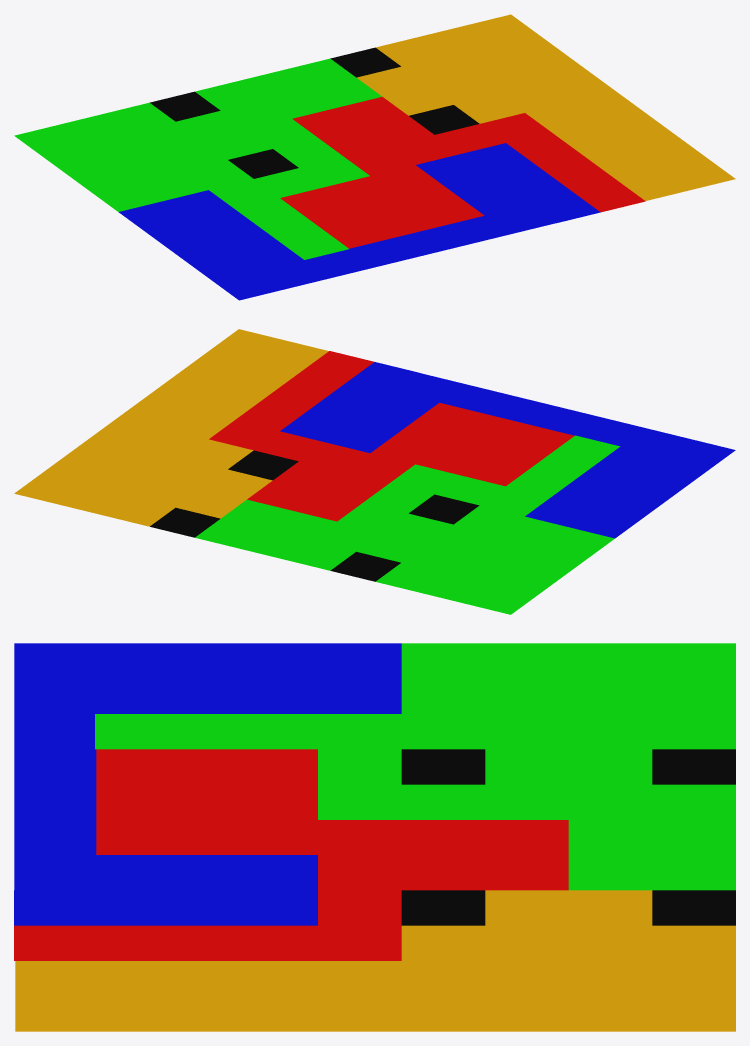
Rendered from ruta_color.glb.
3 renders of one model, top to bottom at view 1: azimuth 30°, elevation 25°; view 2: azimuth 150°, elevation 25°; view 3: azimuth 270°, elevation 25°, orthographic. The views are drawn at different scales.
Parts seen in each view (by area): view 1: Plane; view 2: Plane; view 3: Plane.
Part boxes in pixels (<box>): Plane: <box>14,14,735,300</box>; Plane: <box>14,329,735,614</box>; Plane: <box>14,643,735,1031</box>.
Size of the model in its own units: 16.5 by 0 by 12.96.
